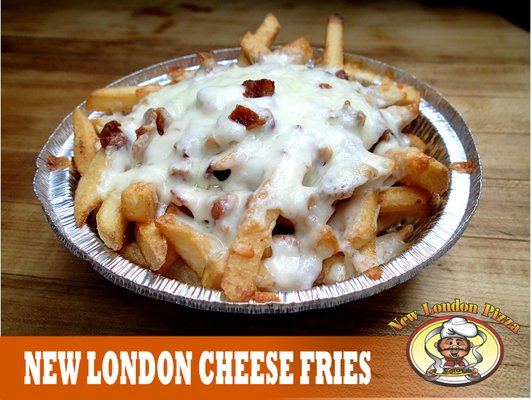curry: (18, 2, 528, 397)
sushi: (66, 15, 459, 302)
